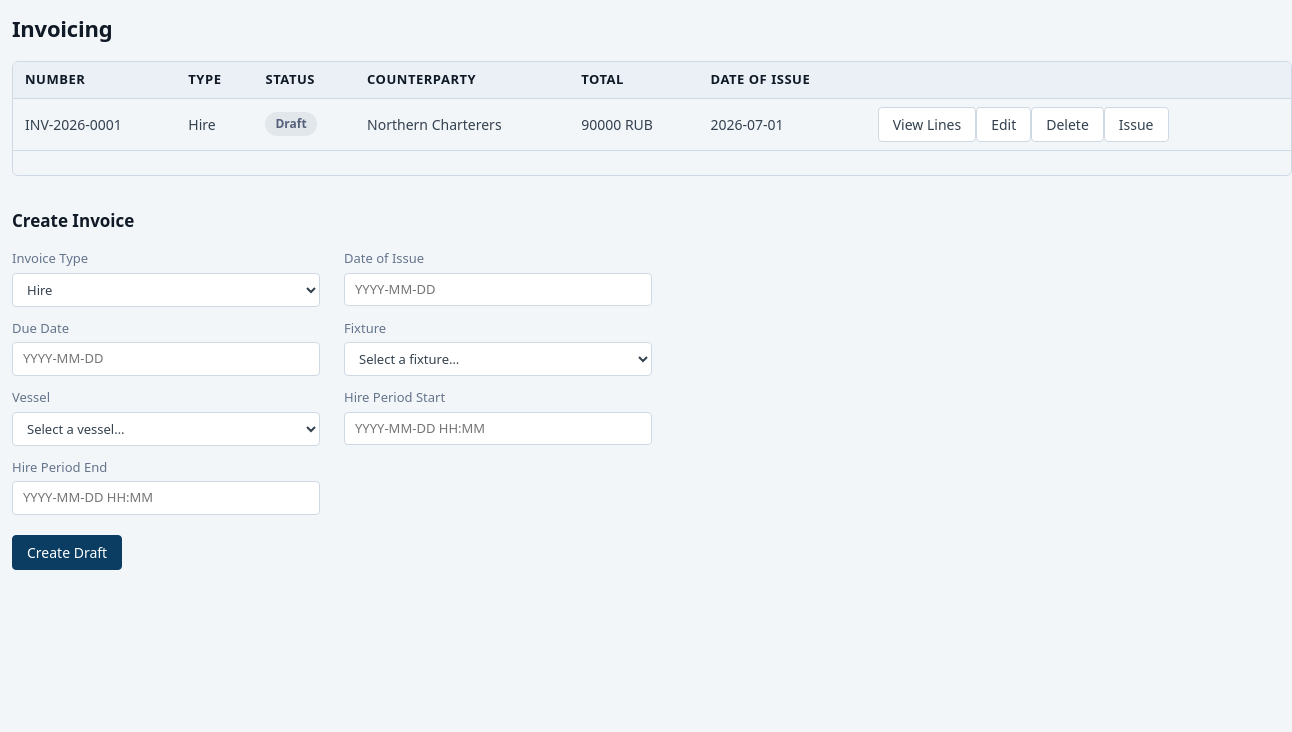
Scenario: InvoicingPage › lets the operator delete a draft invoice after confirming
Expected: the text "INV-2026-0001" is shown, [13,98,176,150]
Click the button "Delete".
click(1068, 124)  # box [1031,106,1104,142]
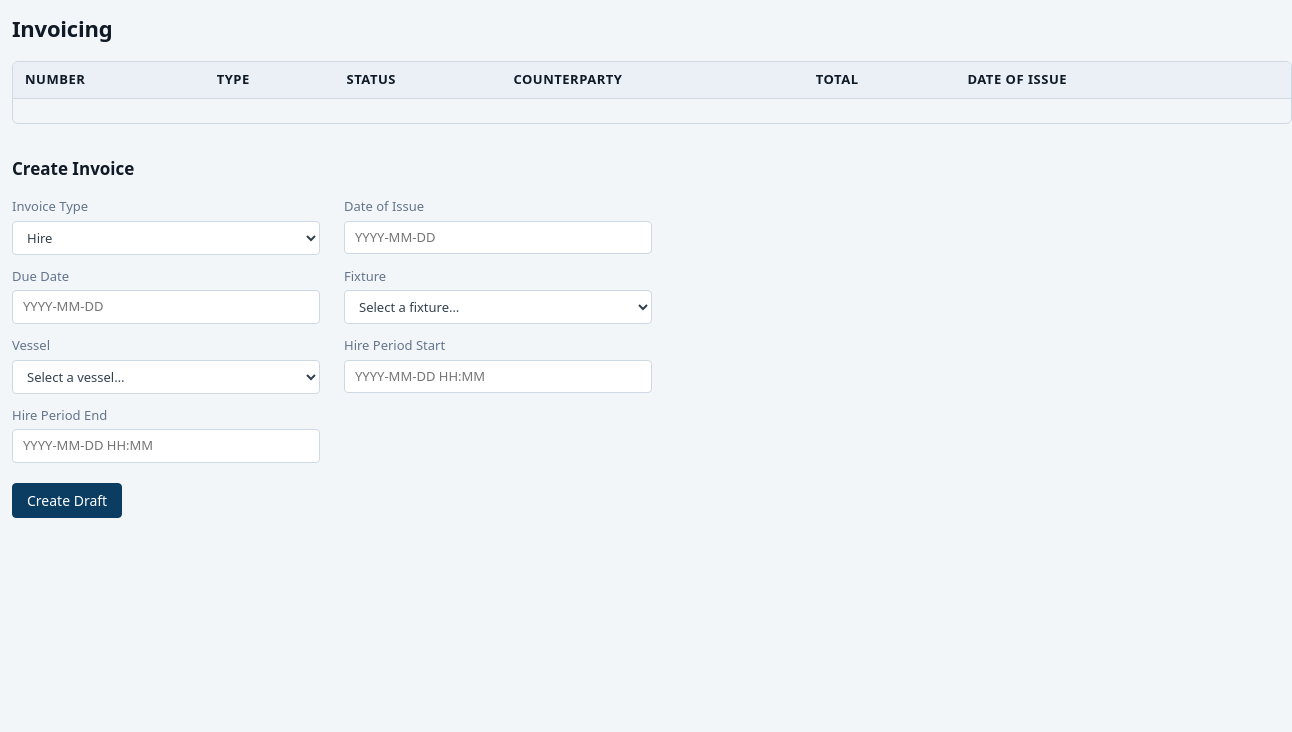
Expected: the text "INV-2026-0001" is gone
